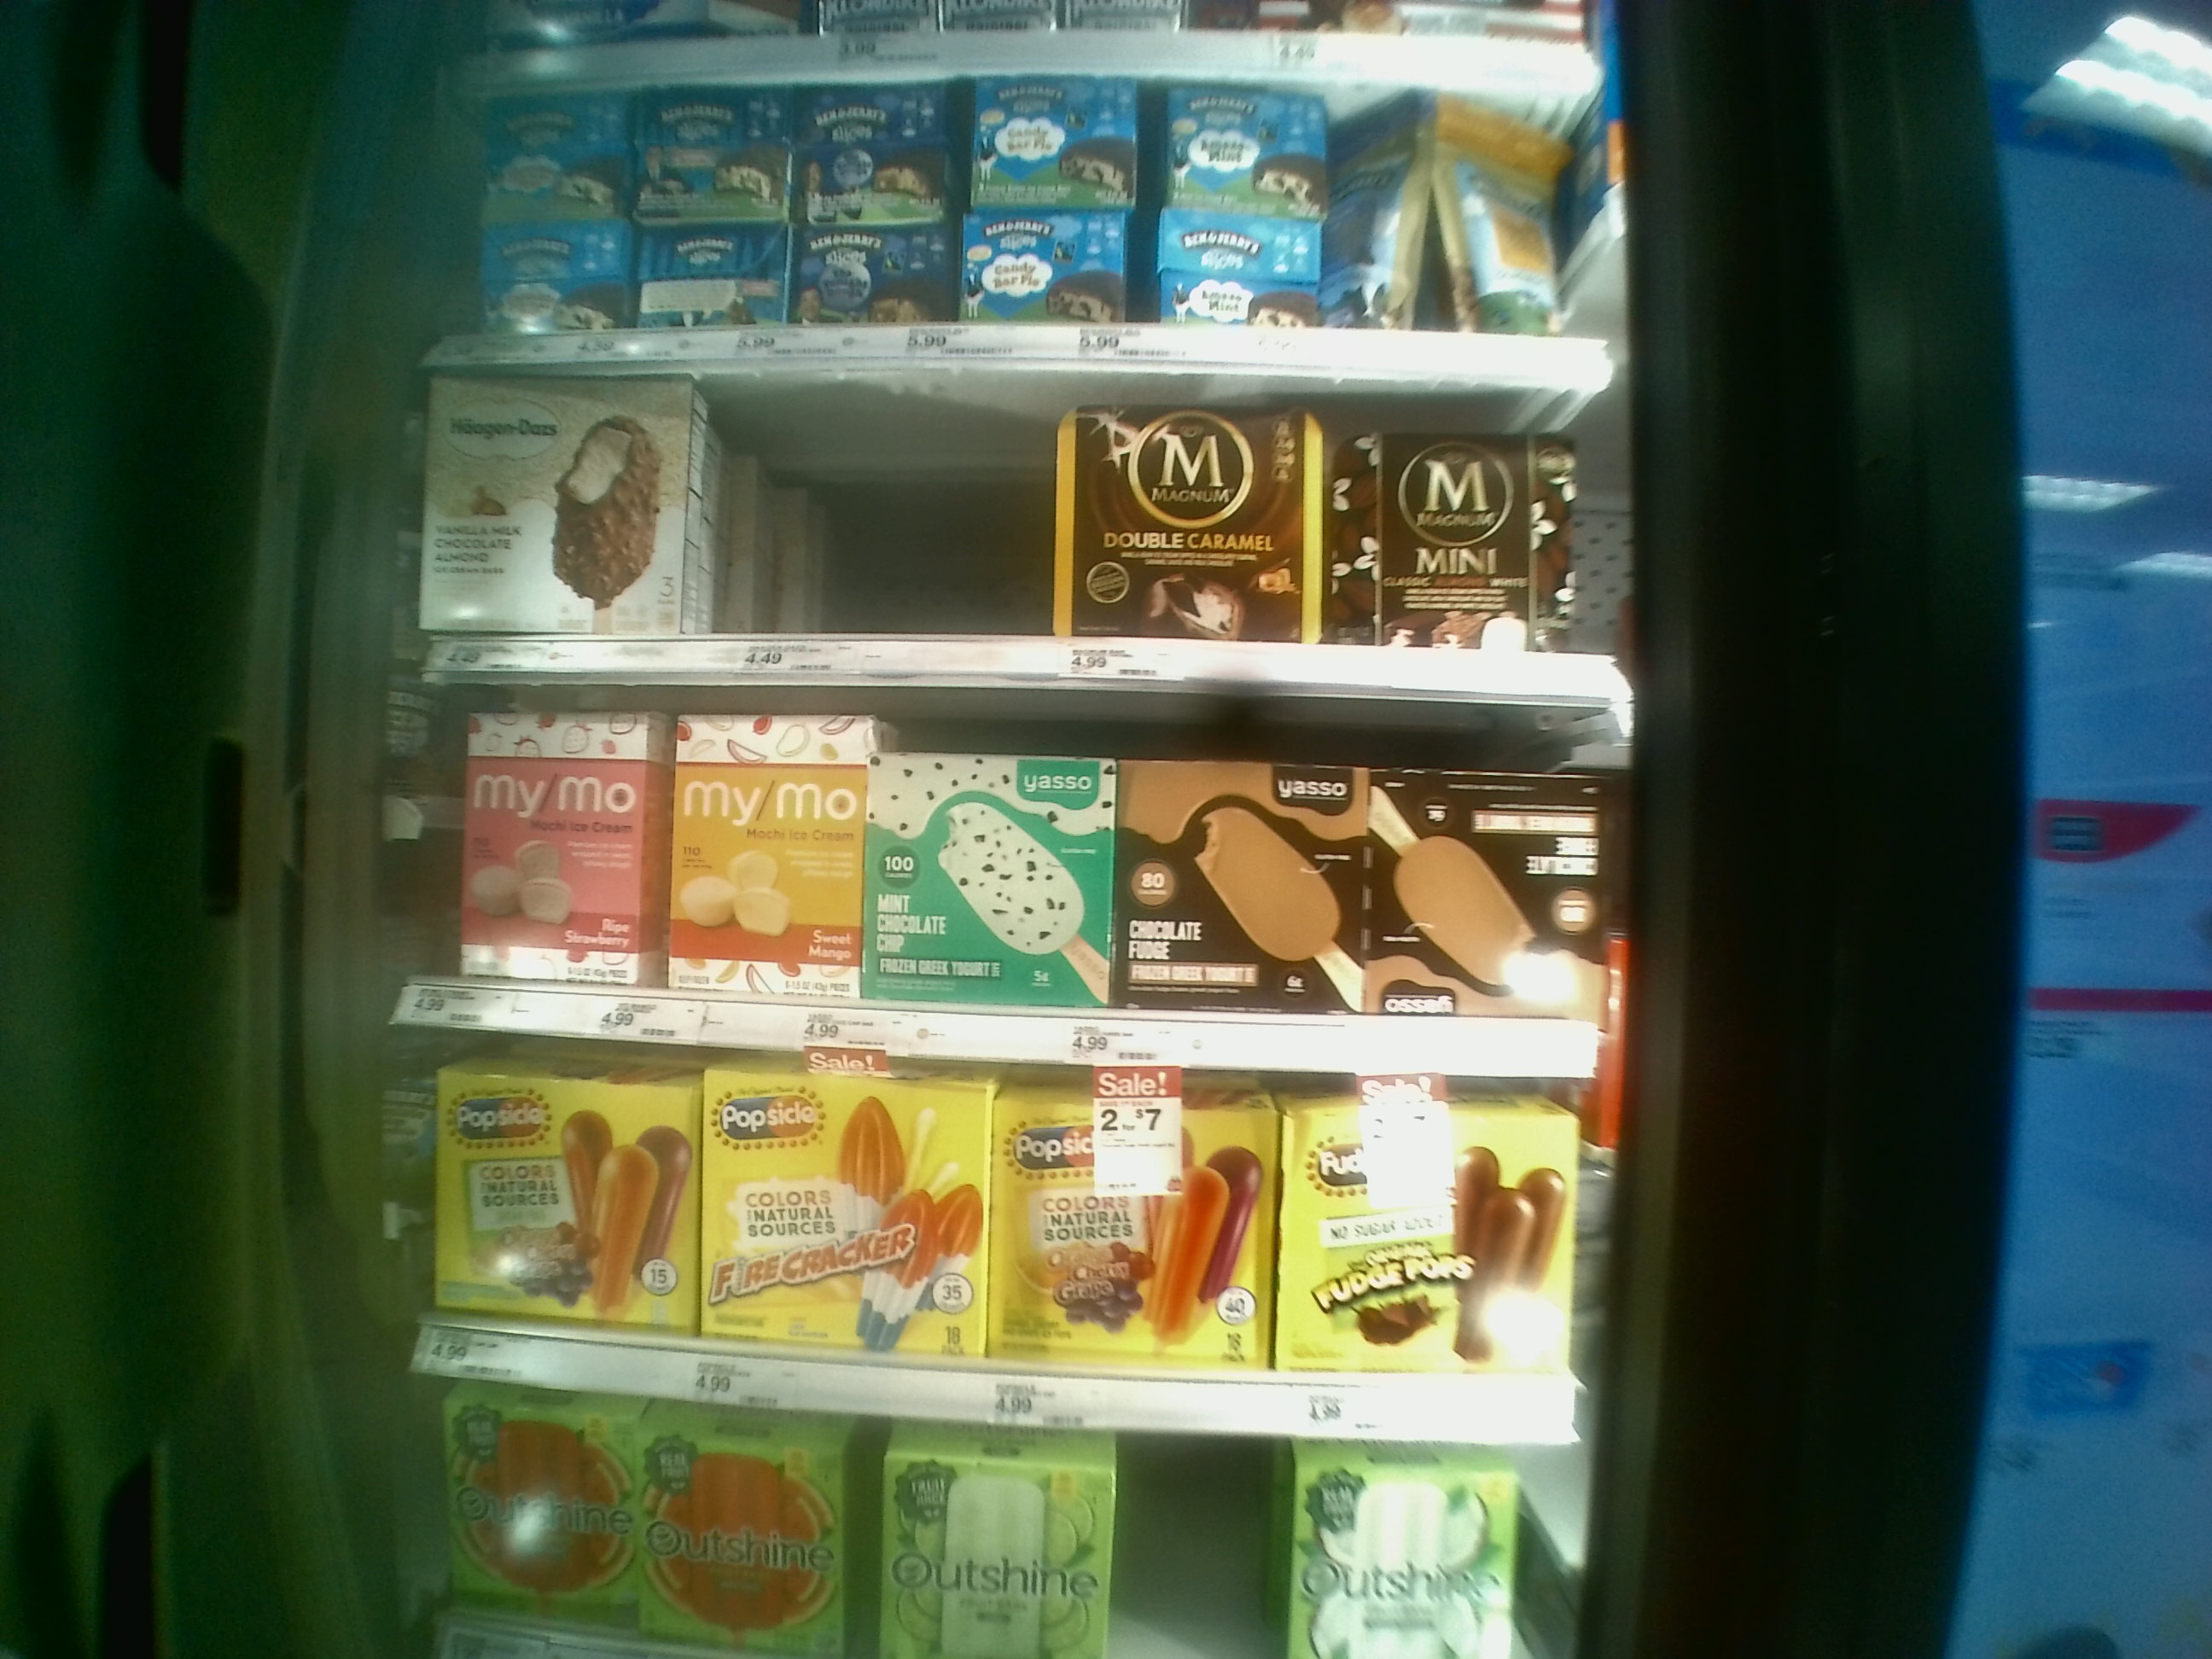shelf: (399, 671, 1615, 1060), (413, 1047, 1576, 1445), (423, 380, 1620, 704), (408, 87, 1609, 375)
